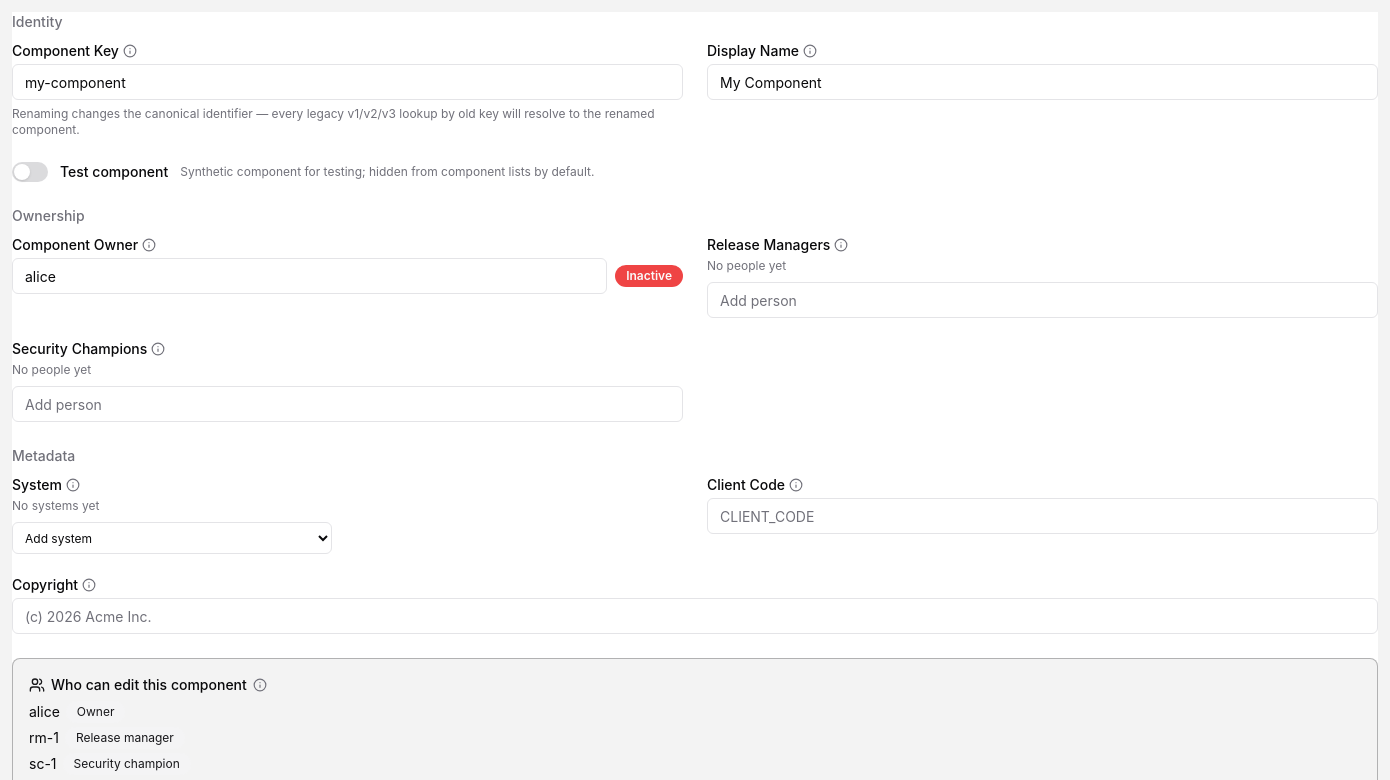
Scenario: GeneralTab — rename target key format › rejects an underscore on a component with no Client Code
This screenshot has width=1390, height=780.
Type "ab_cd-payments" into the field labelled "Component Key" at (348, 82), box x1=12 y1=64 x2=683 y2=100
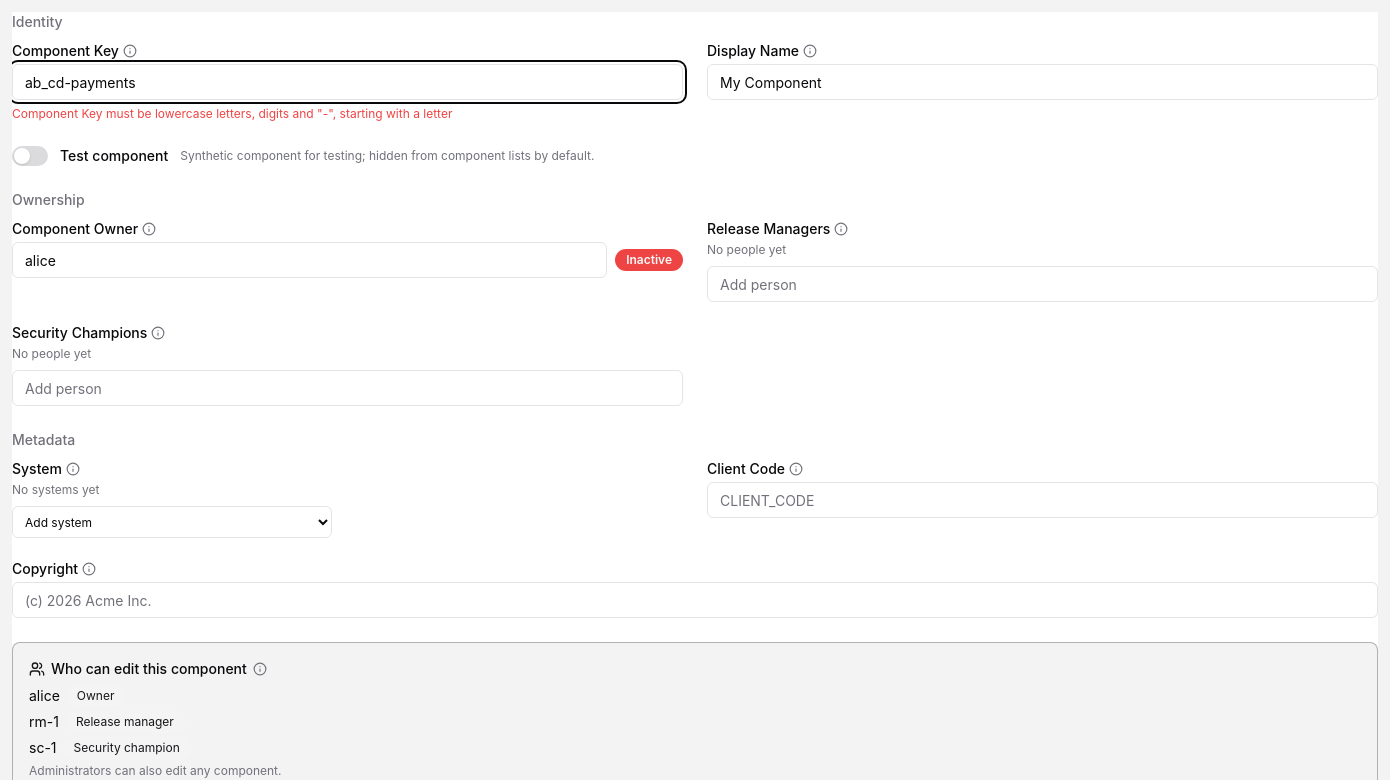
expect the text "must be lowercase letters, digits" is shown: met, box x1=12 y1=106 x2=452 y2=121
